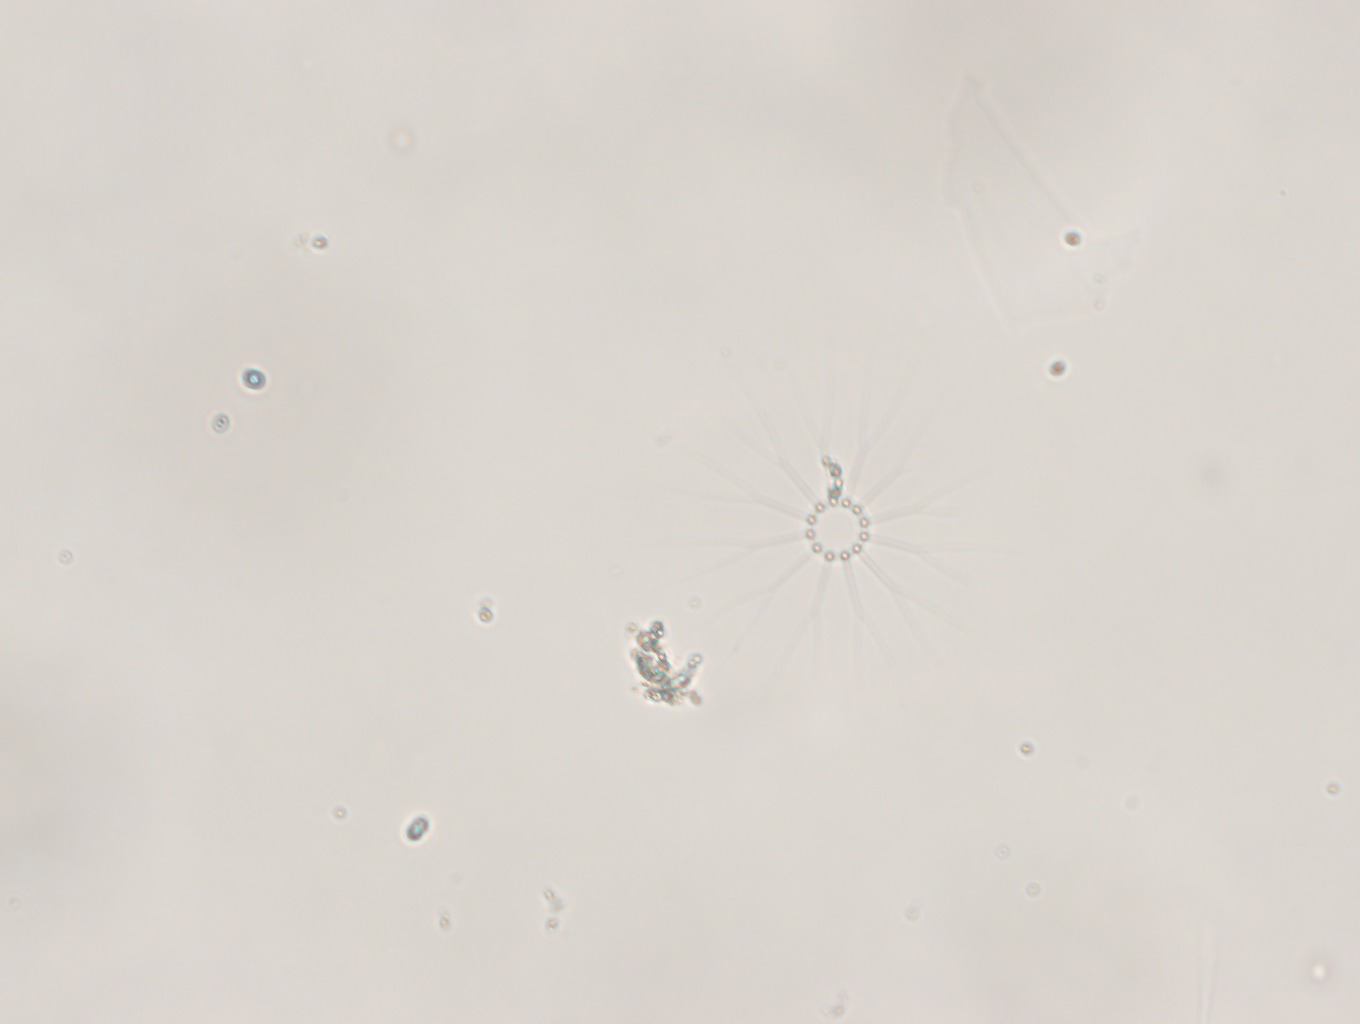bacteriastrum: (705, 392, 982, 678)
